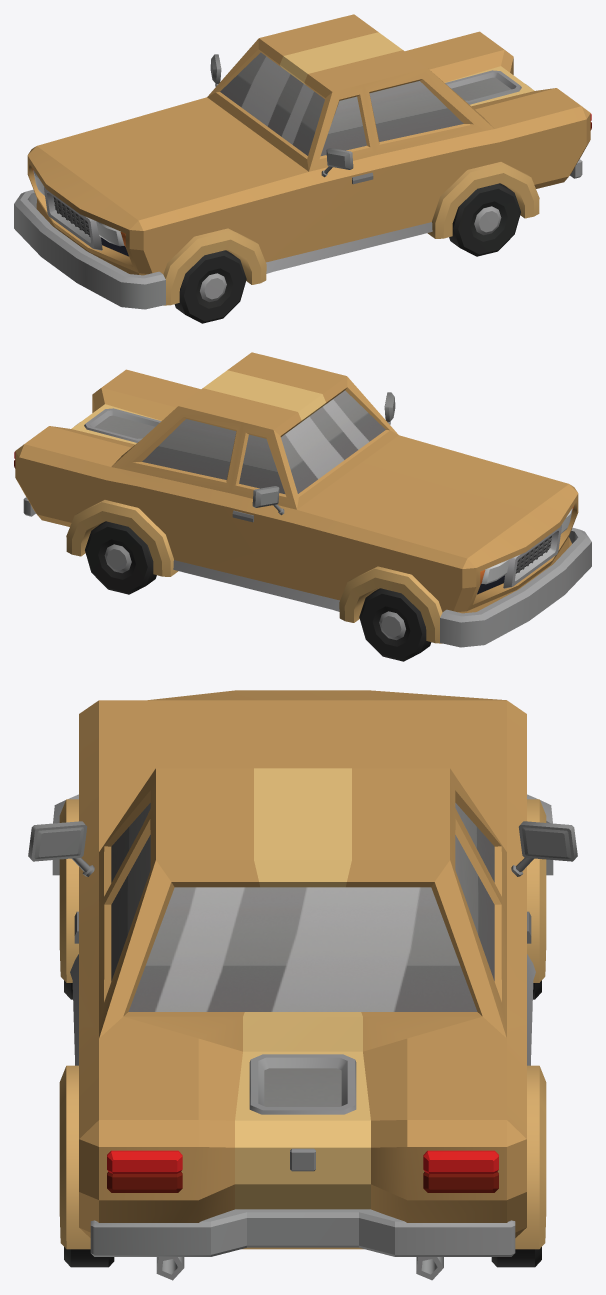
The model's file is Car_18_Q.gltf.
The picture shows the model from 3 angles, top to bottom: view 1: azimuth 30°, elevation 25°; view 2: azimuth 150°, elevation 25°; view 3: azimuth 270°, elevation 25°; orthographic projection. The views are drawn at different scales.
Visible parts, largest first — view 1: Car_18_Q, RL, FL; view 2: Car_18_Q, RR, FR; view 3: Car_18_Q.
Part boxes in pixels (box(x1,y1,x2,y2)): Car_18_Q: box(14, 14, 591, 309); RL: box(449, 183, 520, 256); FL: box(174, 250, 246, 323); Car_18_Q: box(14, 352, 591, 647); RR: box(85, 521, 156, 594); FR: box(359, 588, 431, 661); Car_18_Q: box(28, 690, 577, 1280).
Bounding box in the file's own units: 3.78 × 1.34 × 1.85.
3 materials, 3 textured.
